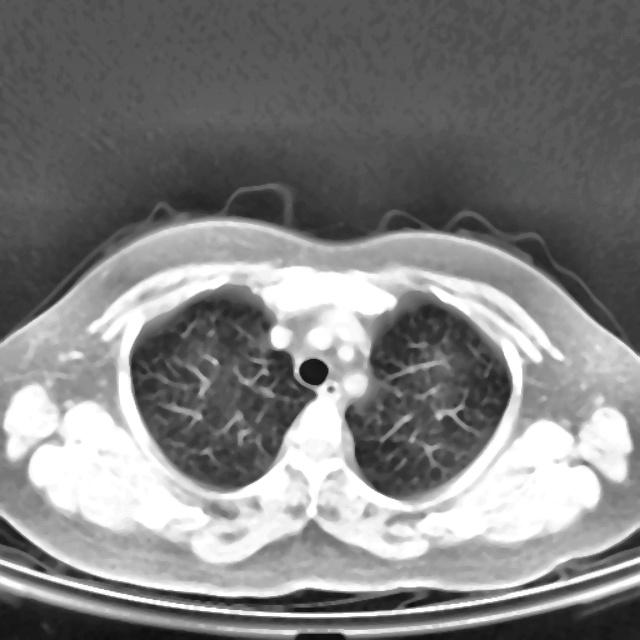covid: (0, 193, 638, 600)
